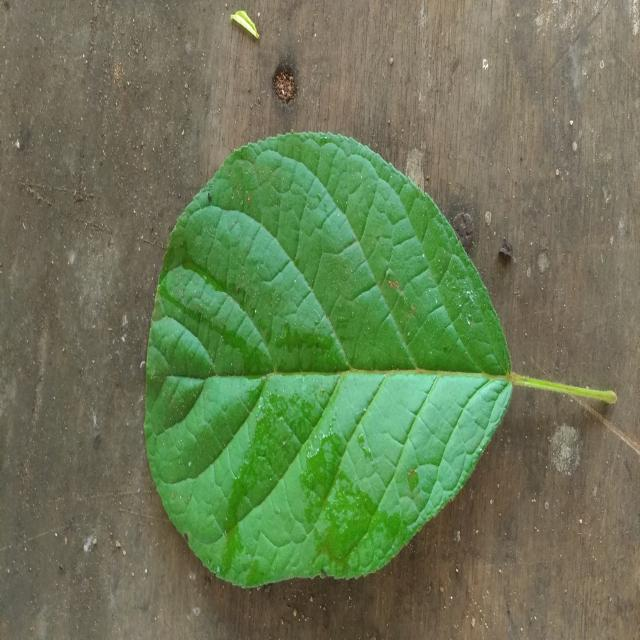padri: (145, 133, 512, 587)
